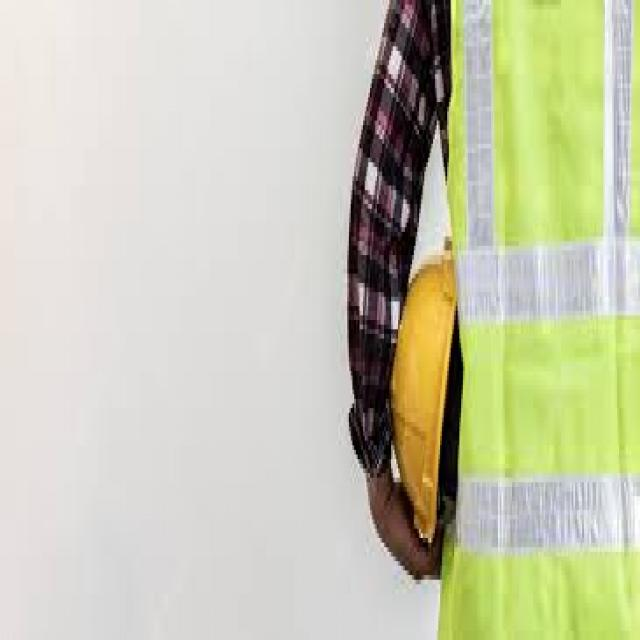Reflective-Jacket: (426, 0, 640, 635)
Safety-Helmet: (382, 232, 467, 566)
